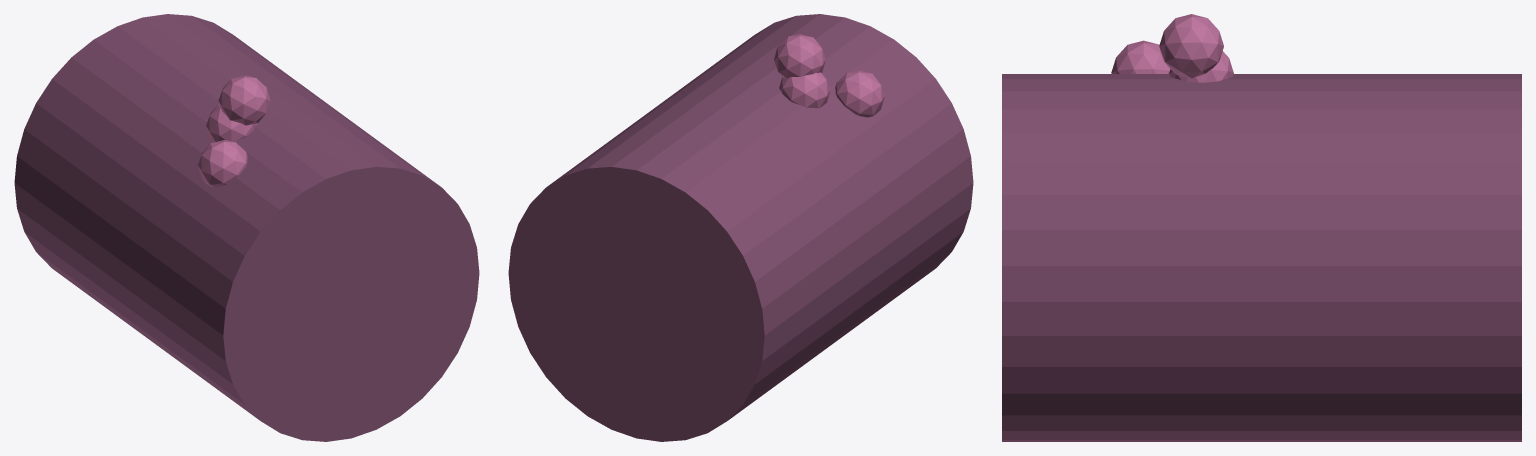
File: nightmare_spawn.glb
The picture shows the model from 3 angles, left to right: view 1: azimuth 30°, elevation 25°; view 2: azimuth 150°, elevation 25°; view 3: azimuth 270°, elevation 25°; orthographic projection. The views are drawn at different scales.
Parts seen in each view (by area): view 1: geometry_0; view 2: geometry_0; view 3: geometry_0.
Part boxes in pixels (left/top/right/bottom): geometry_0: left=14, top=14, right=479, bottom=441; geometry_0: left=508, top=14, right=973, bottom=441; geometry_0: left=1002, top=14, right=1521, bottom=441.
Bounding box in the file's own units: 0.68 × 0.7936 × 0.96.
